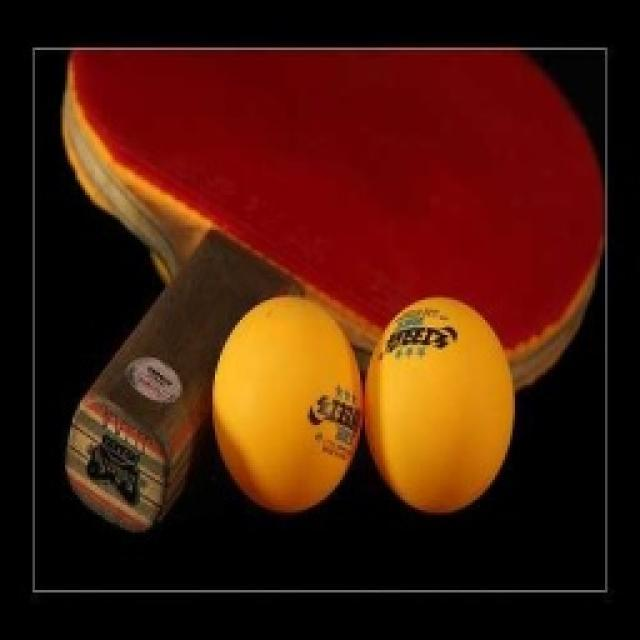oball: (212, 293, 362, 512), (366, 292, 512, 514)
